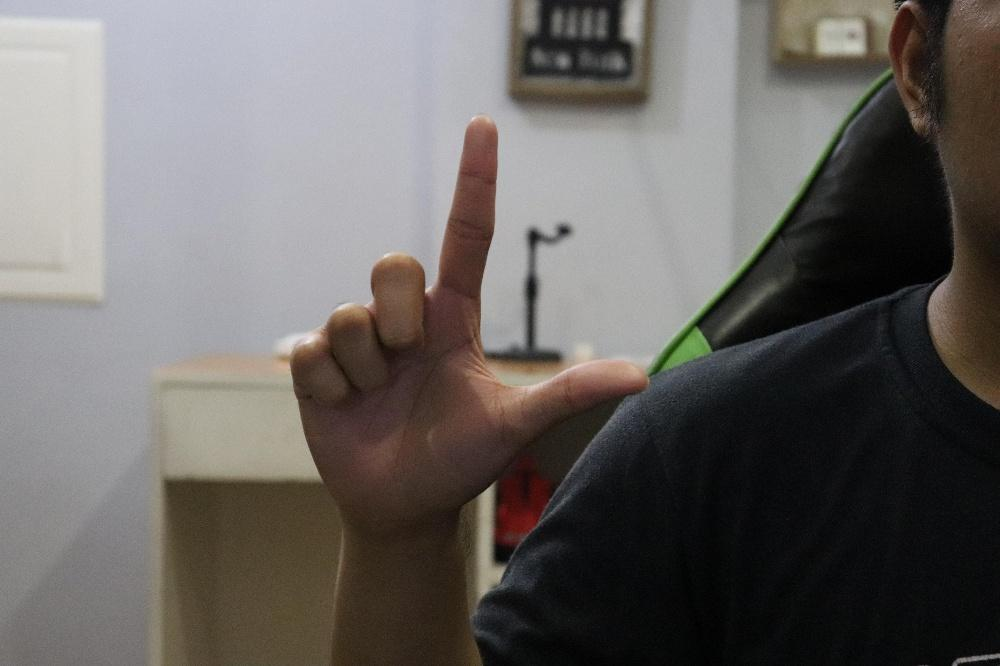l: (289, 111, 650, 530)
